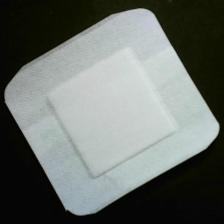Dressing: (5, 9, 221, 217)
